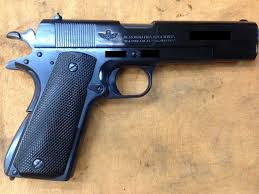Arma Real: (1, 13, 259, 182)
